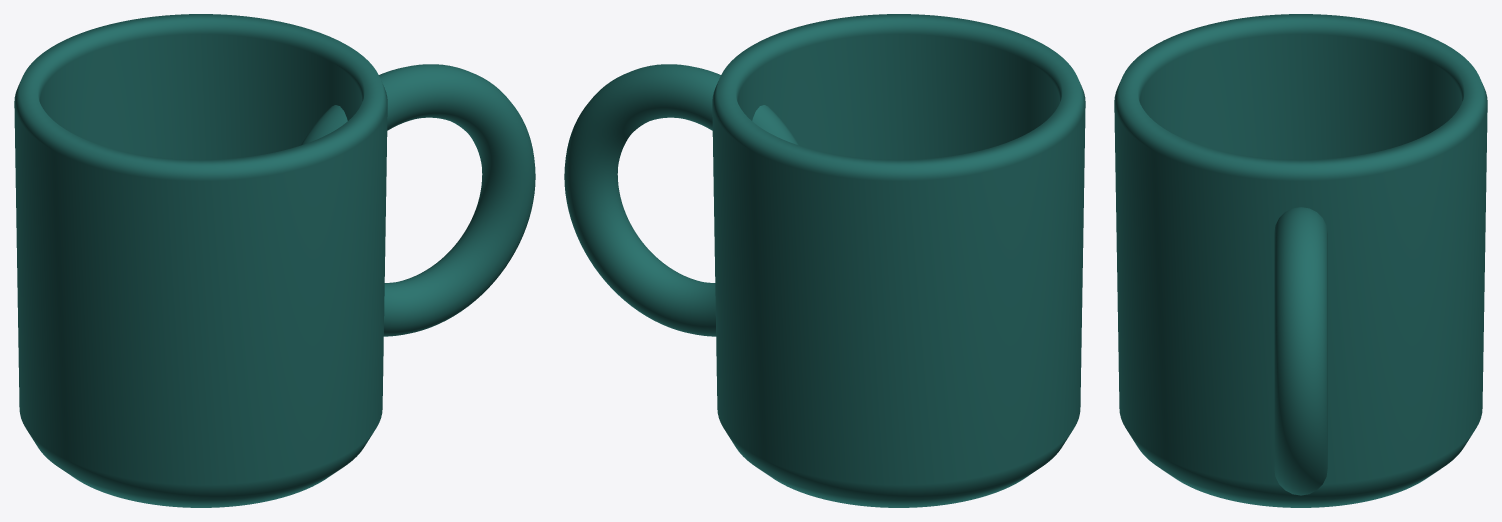
File: studio-mug.obj
3 renders of one model, left to right at view 1: azimuth 30°, elevation 25°; view 2: azimuth 150°, elevation 25°; view 3: azimuth 270°, elevation 25°, orthographic.
Visible parts, largest first — view 1: Glazed_ceramic_body, Curved_handle; view 2: Glazed_ceramic_body, Curved_handle; view 3: Glazed_ceramic_body, Curved_handle.
Part boxes in pixels (x1=…): Glazed_ceramic_body: x1=14, y1=14, x2=387, y2=507; Curved_handle: x1=301, y1=64, x2=535, y2=336; Glazed_ceramic_body: x1=712, y1=14, x2=1085, y2=507; Curved_handle: x1=564, y1=64, x2=798, y2=336; Glazed_ceramic_body: x1=1114, y1=14, x2=1487, y2=507; Curved_handle: x1=1274, y1=207, x2=1327, y2=495.
Bounding box in the file's own units: 2.23 × 1.53 × 1.46.
